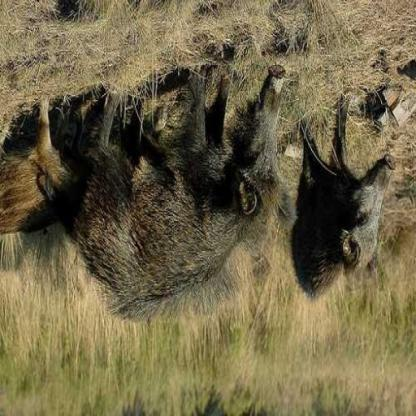boar: (47, 39, 337, 346), (210, 102, 415, 354)
